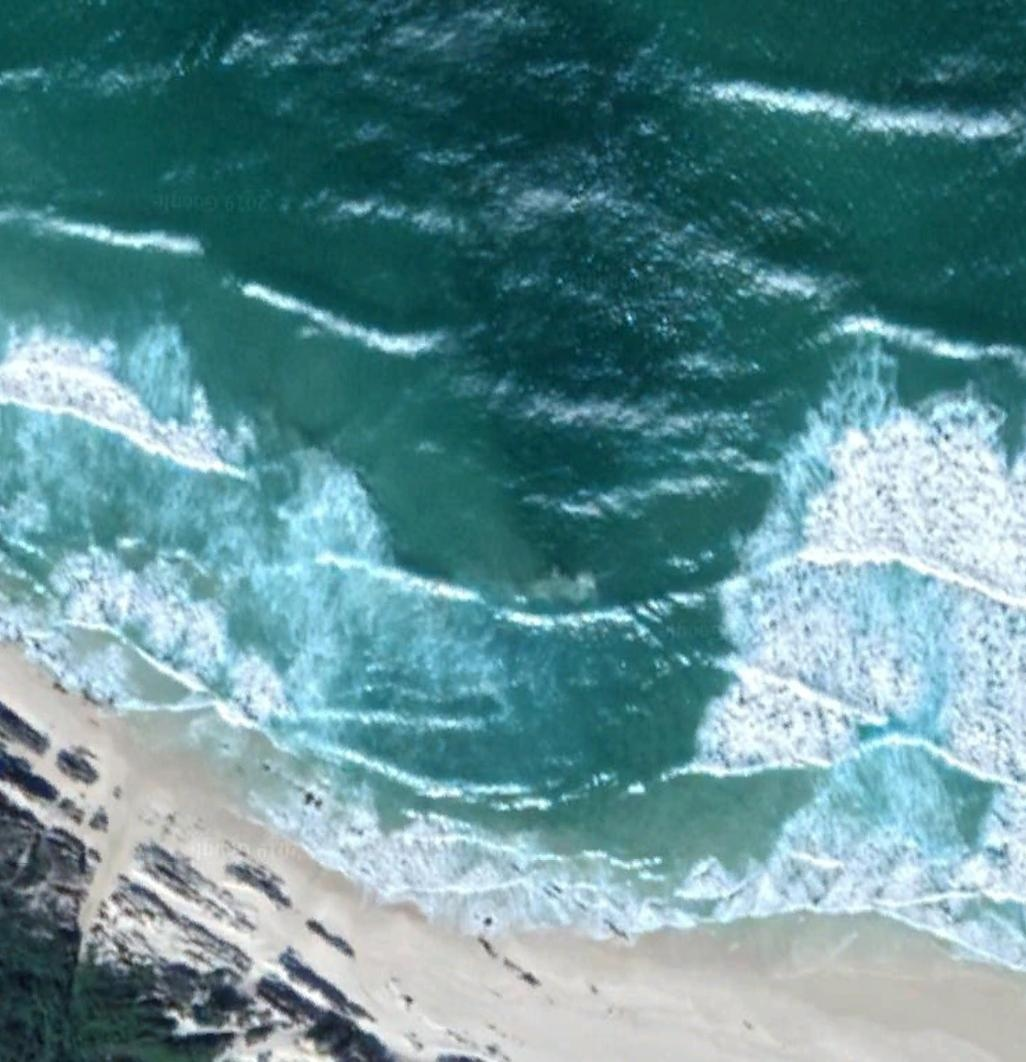rip_current: (247, 256, 836, 860)
